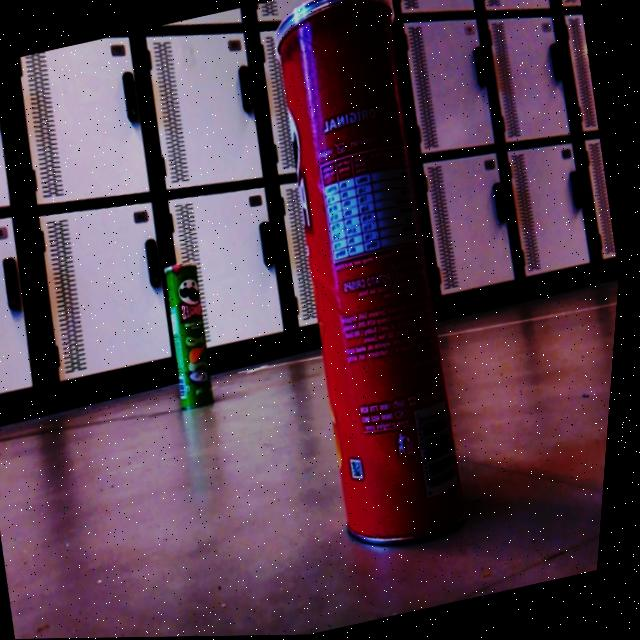greenpringles: (140, 247, 244, 424)
redpringles: (215, 0, 523, 581)
